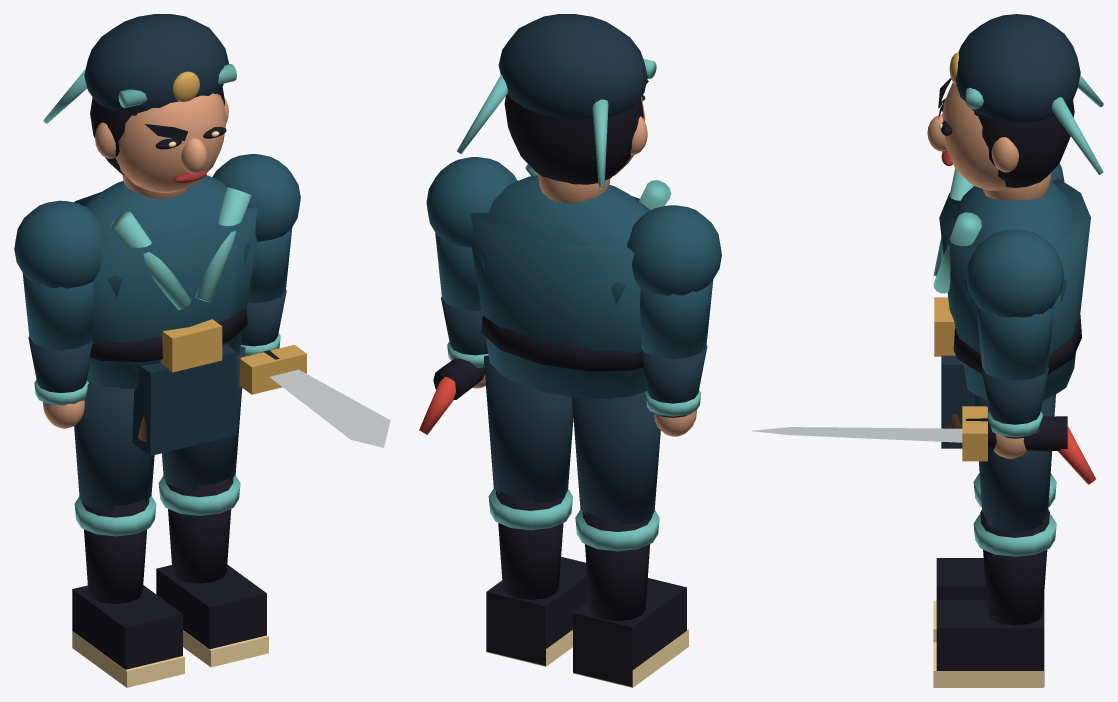
File: ren.glb
The picture shows the model from 3 angles, left to right: view 1: azimuth 30°, elevation 25°; view 2: azimuth 150°, elevation 25°; view 3: azimuth 270°, elevation 25°; orthographic projection. The views are drawn at different scales.
Visible parts, largest first — view 1: Cone.148, Sphere.015, Cube.192, Cone.160, Cube.193, Sphere.006, Sphere.017, Cube.196, Sphere.003, Cone.169, Cone.161, Sphere.019 (+23 smaller); view 2: Cone.148, Sphere.015, Cone.160, Cone.168, Sphere.003, Cube.193, Sphere.005, Sphere.017, Cube.196, Sphere.019, Cone.169, Cone.161 (+17 smaller); view 3: Sphere.015, Cone.148, Sphere.019, Cube.196, Cone.168, Cone.169, Cone.163, Sphere.003, Sphere.005, Sphere.006, Cone.164, Dao blade (+16 smaller).
Boxes of the visible parts, x1,y1,x2,y2 form: Cone.148: (74, 192, 258, 388); Sphere.015: (84, 14, 228, 113); Cube.192: (132, 344, 237, 455); Cone.160: (74, 381, 154, 510); Cube.193: (72, 585, 182, 669); Sphere.006: (115, 93, 226, 192); Sphere.017: (14, 200, 106, 288); Cube.196: (156, 564, 266, 649); Sphere.003: (83, 175, 250, 297); Cone.169: (166, 478, 233, 583); Cone.161: (82, 498, 149, 603); Sphere.019: (212, 154, 300, 241); Cone.148: (470, 196, 647, 399); Sphere.015: (498, 14, 647, 119); Cone.160: (572, 391, 660, 524); Cone.168: (483, 355, 573, 503); Sphere.003: (478, 175, 650, 305); Cube.193: (573, 578, 686, 686); Sphere.005: (504, 94, 643, 184); Sphere.017: (627, 205, 721, 295); Cube.196: (486, 556, 588, 665); Sphere.019: (426, 157, 517, 247); Cone.169: (496, 491, 565, 599); Cone.161: (582, 512, 652, 621); Sphere.015: (955, 14, 1080, 122); Cone.148: (939, 178, 1090, 400); Sphere.019: (966, 229, 1064, 317); Cube.196: (936, 599, 1044, 686); Cone.168: (974, 394, 1055, 532); Cone.169: (980, 510, 1049, 625); Cone.163: (975, 304, 1054, 380); Sphere.003: (955, 181, 1074, 302); Sphere.005: (974, 100, 1074, 187); Sphere.006: (942, 82, 1010, 190); Cone.164: (981, 367, 1048, 438); Dao blade: (752, 427, 962, 442).
Size of the model in its own units: 1.04 by 2.25 by 1.15.
